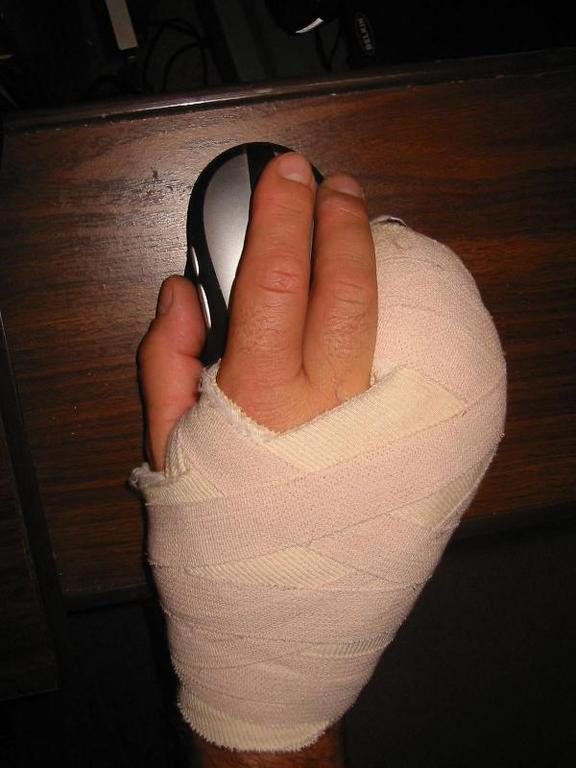injured: (114, 213, 527, 758)
